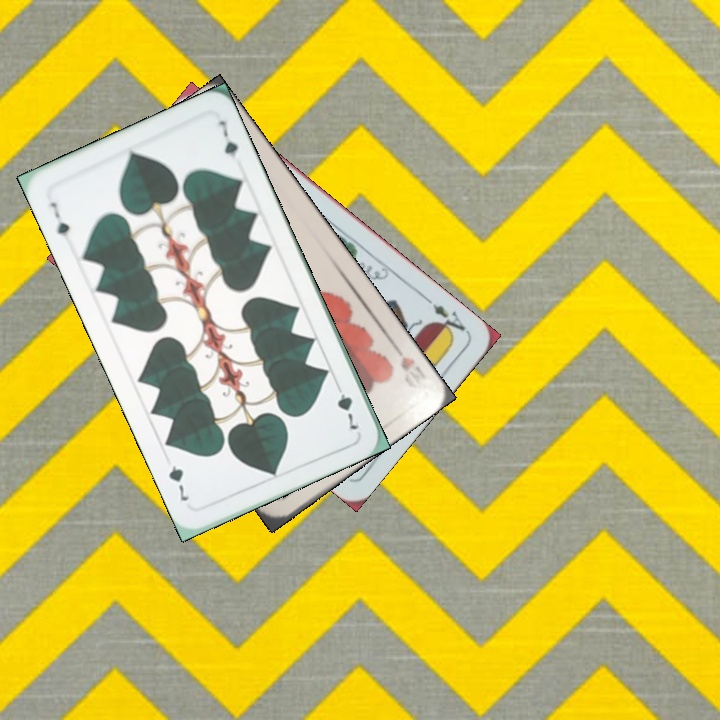EA: (428, 300, 470, 340)
G7: (331, 377, 362, 433), (46, 198, 72, 239)
H10: (387, 338, 418, 374)
